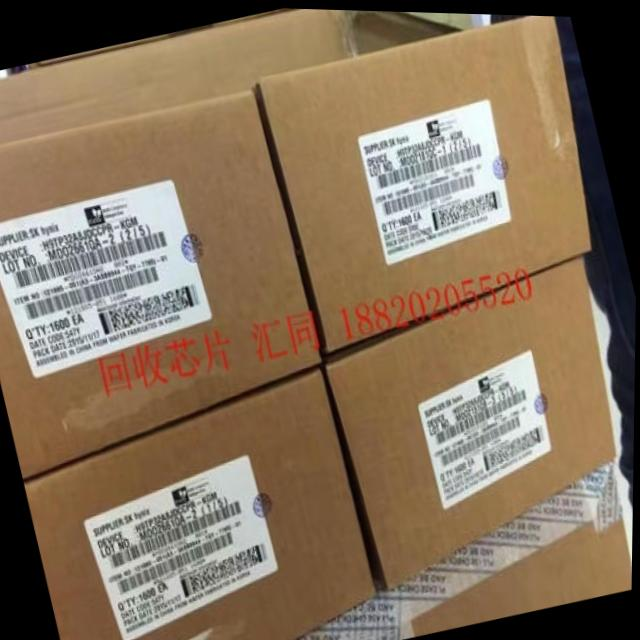box: (0, 85, 324, 480), (259, 12, 592, 350), (326, 251, 617, 589), (26, 365, 377, 640), (0, 7, 461, 142), (414, 513, 634, 632)
